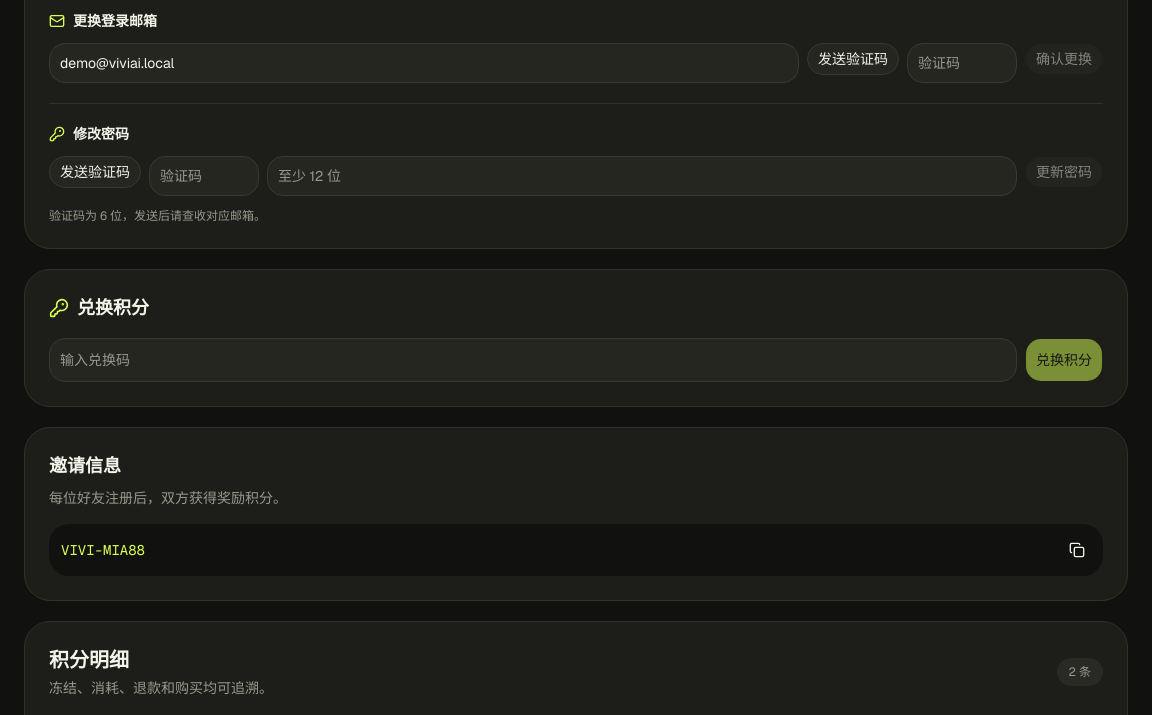
account page › redeems a valid demo code and refreshes the balance
(page scrolled)
Type "VIVIAI2026" into the field labelled "兑换码" at {"x": 533, "y": 360}, box [49,338,1017,382]
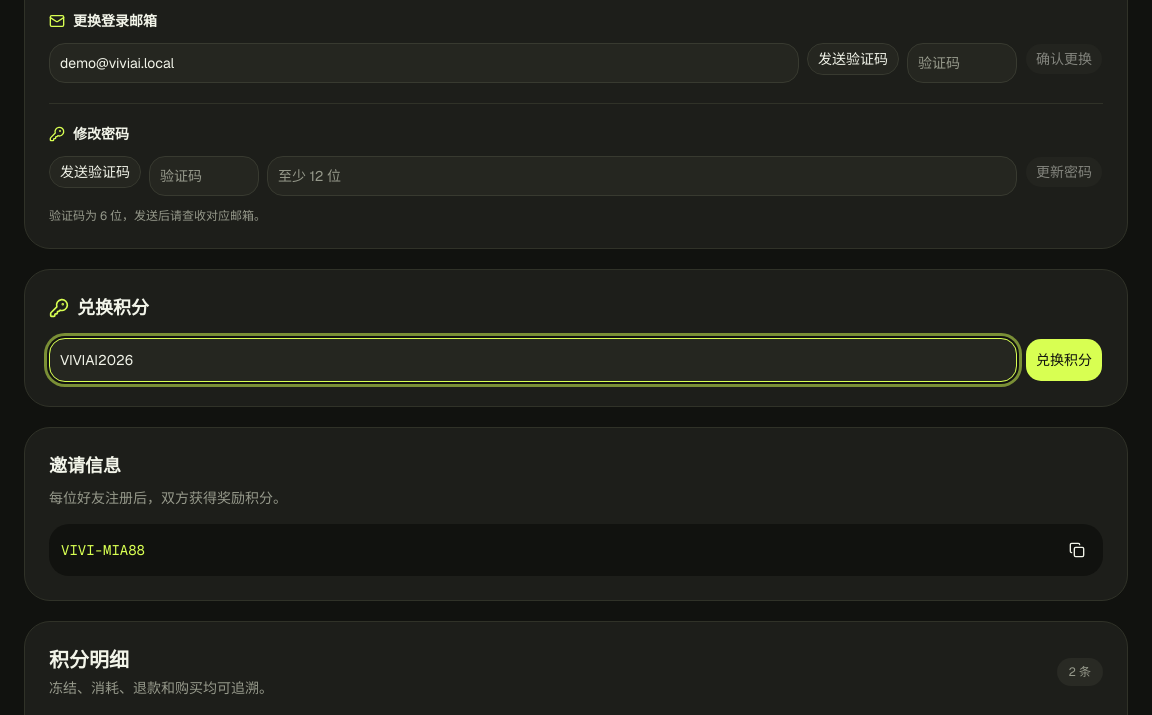
Click the button "兑换积分" at {"x": 1064, "y": 360}, box [1025,338,1103,382]
(page scrolled)
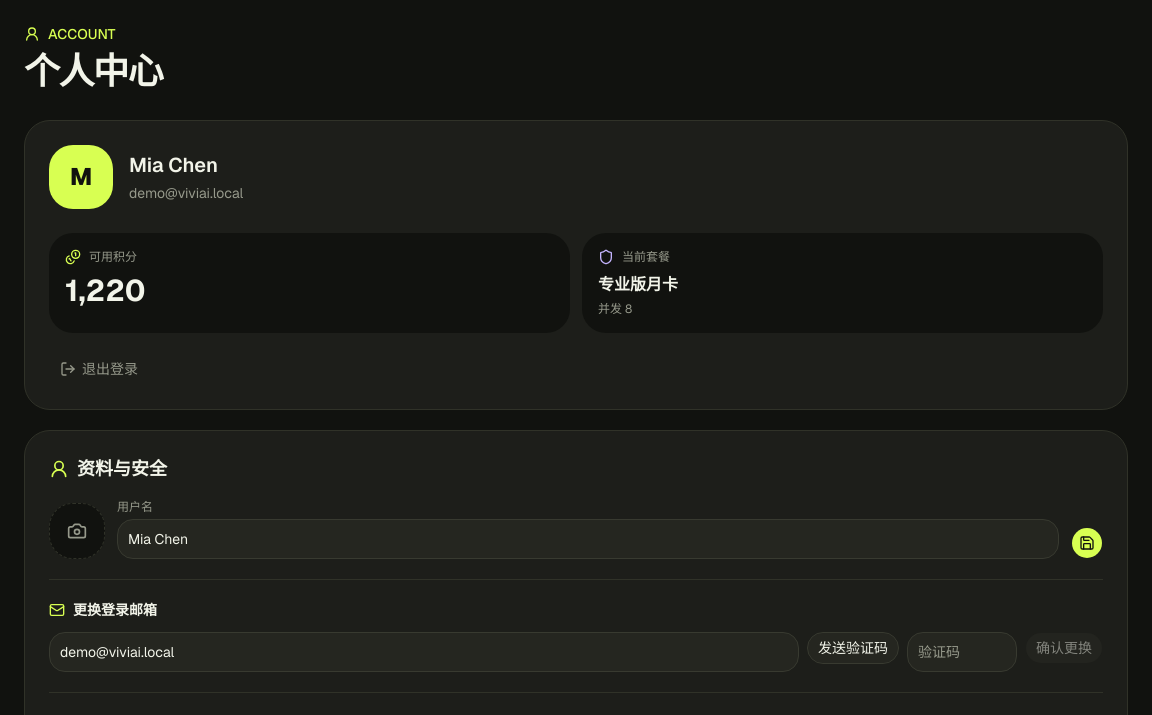
Result: the text "1,220" is shown at [65,271,146,310]
